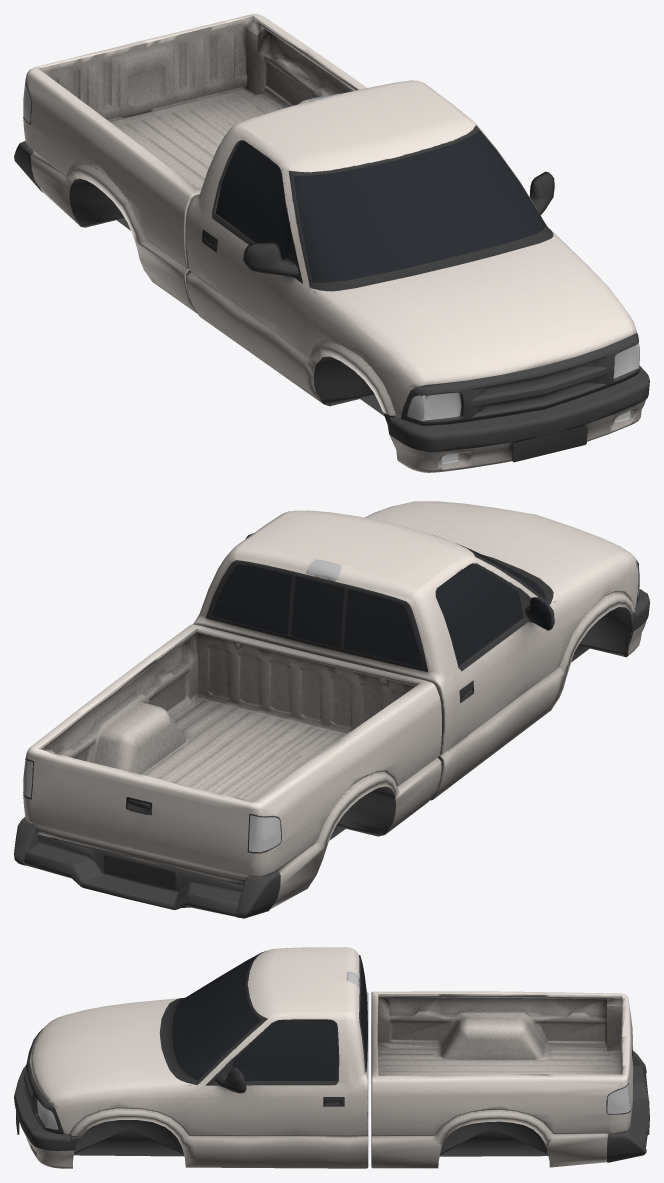
The model's file is car_0012.fbx.
The picture shows the model from 3 angles, top to bottom: view 1: azimuth 30°, elevation 25°; view 2: azimuth 150°, elevation 25°; view 3: azimuth 270°, elevation 25°; orthographic projection. The views are drawn at different scales.
Visible parts, largest first — view 1: car_main; view 2: car_main; view 3: car_main.
Part boxes in pixels (bbox=[...]): car_main: bbox=[14, 14, 649, 472]; car_main: bbox=[14, 501, 649, 918]; car_main: bbox=[14, 947, 649, 1168].
Bounding box in the file's own units: 215 × 135 × 512.
